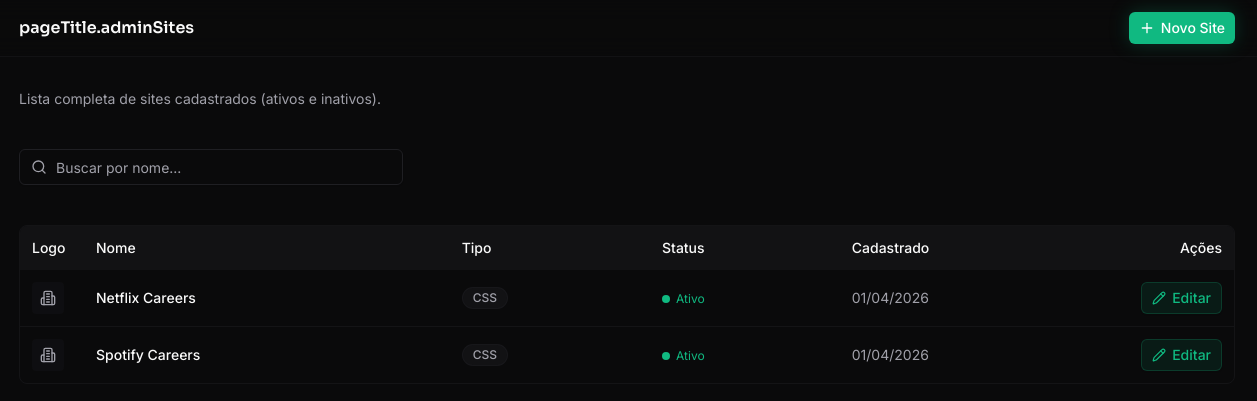
Test: AdminSitesListPage › search filters by site_name
Type "Netflix" into the field with placeholder "Buscar por nome..." at (211,167), box 19,149 -> 403,185
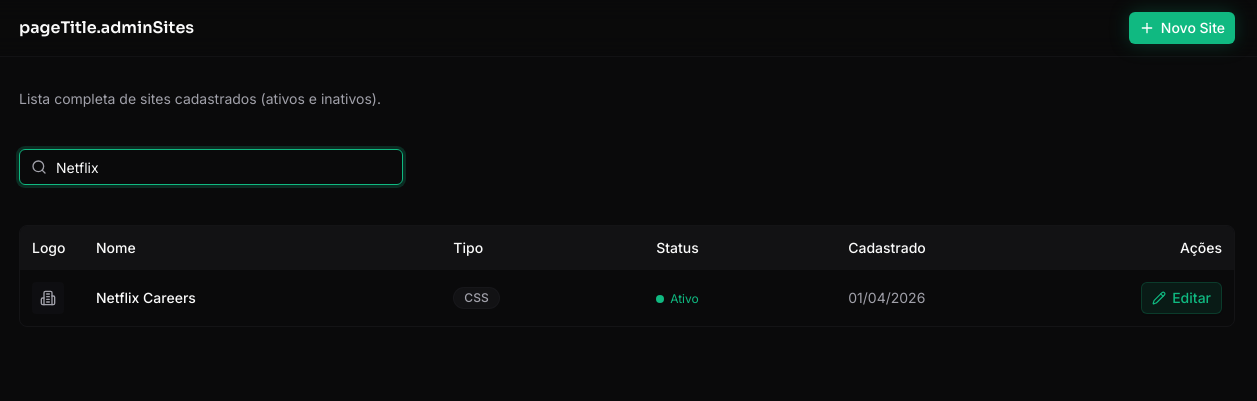
Expected: the text "Netflix Careers" is shown, 84,270 -> 441,326
Expected: the text "Spotify Careers" is gone
